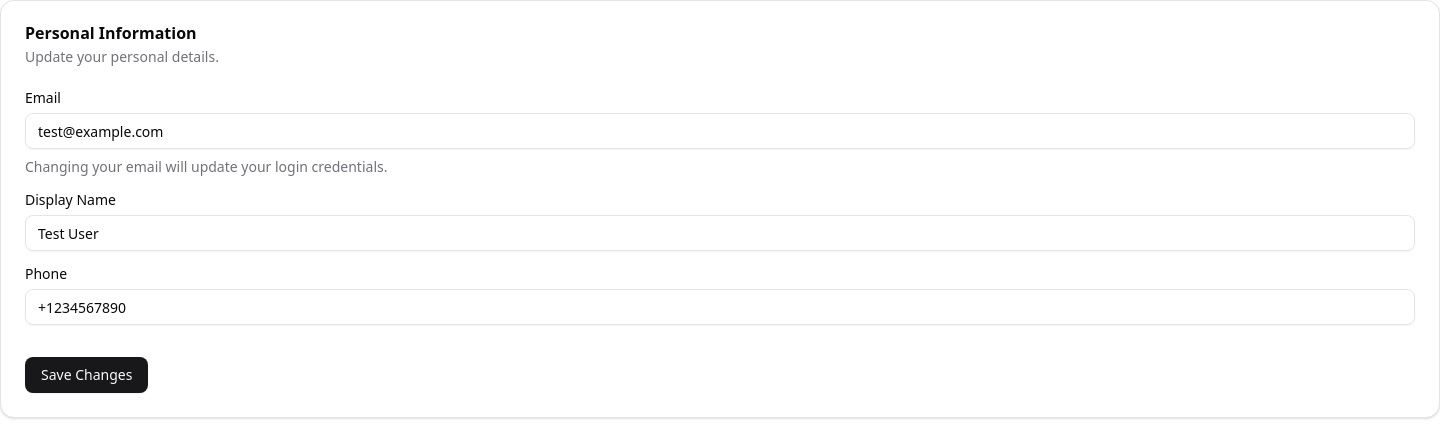
ProfileForm › should show loading state while saving
Click the button "Save Changes" at (87, 375), box [25,357,148,393]
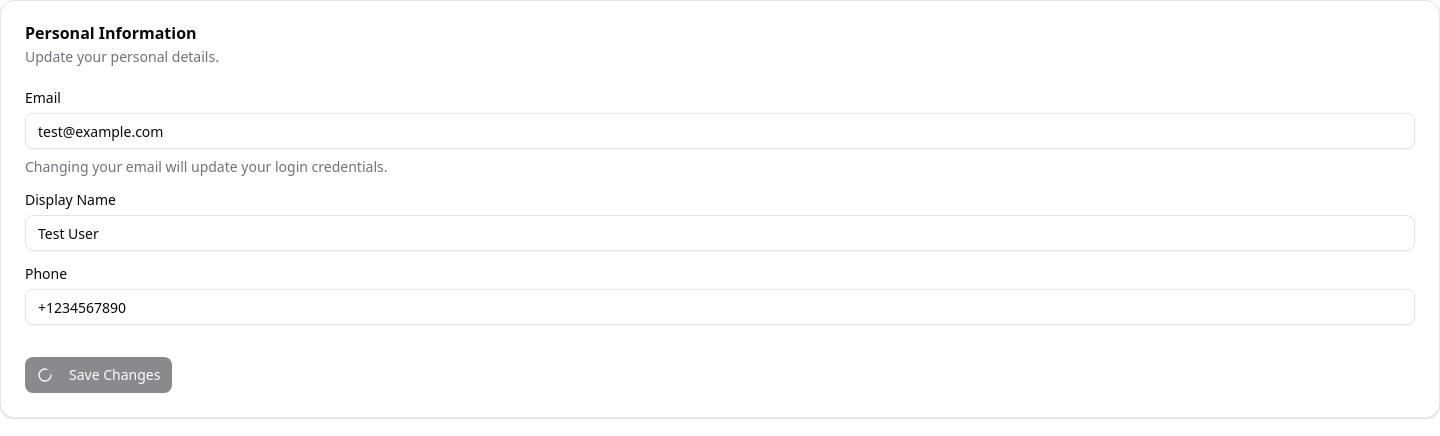
Now the button "Save Changes" is disabled, box [25,357,172,393]
